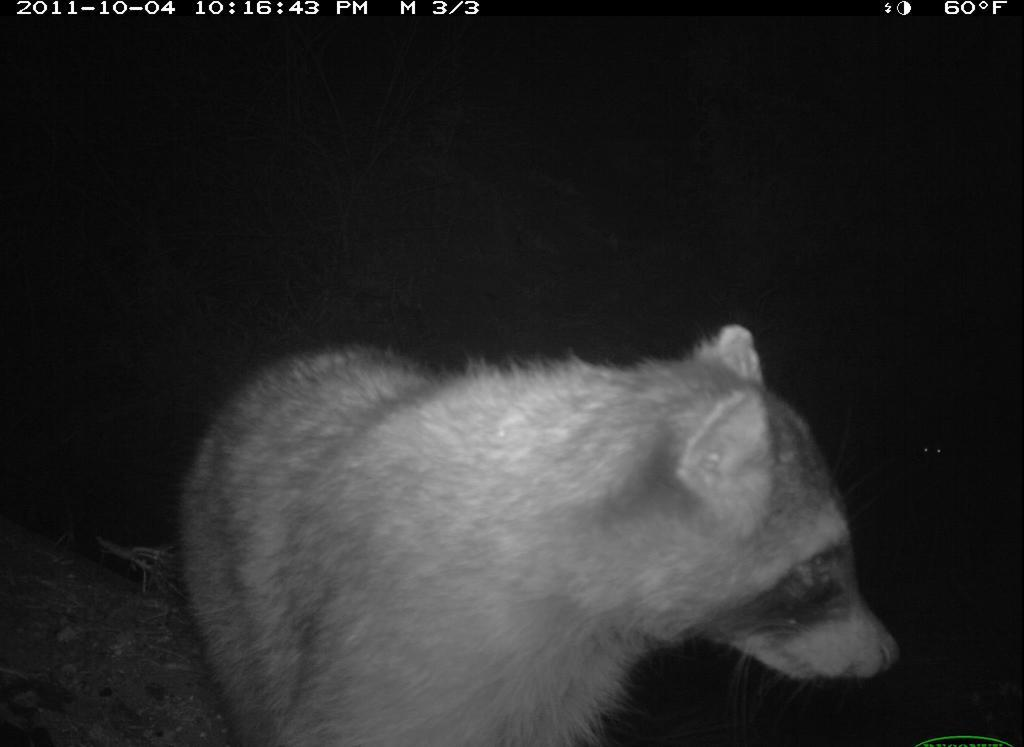raccoon: (162, 309, 913, 745)
